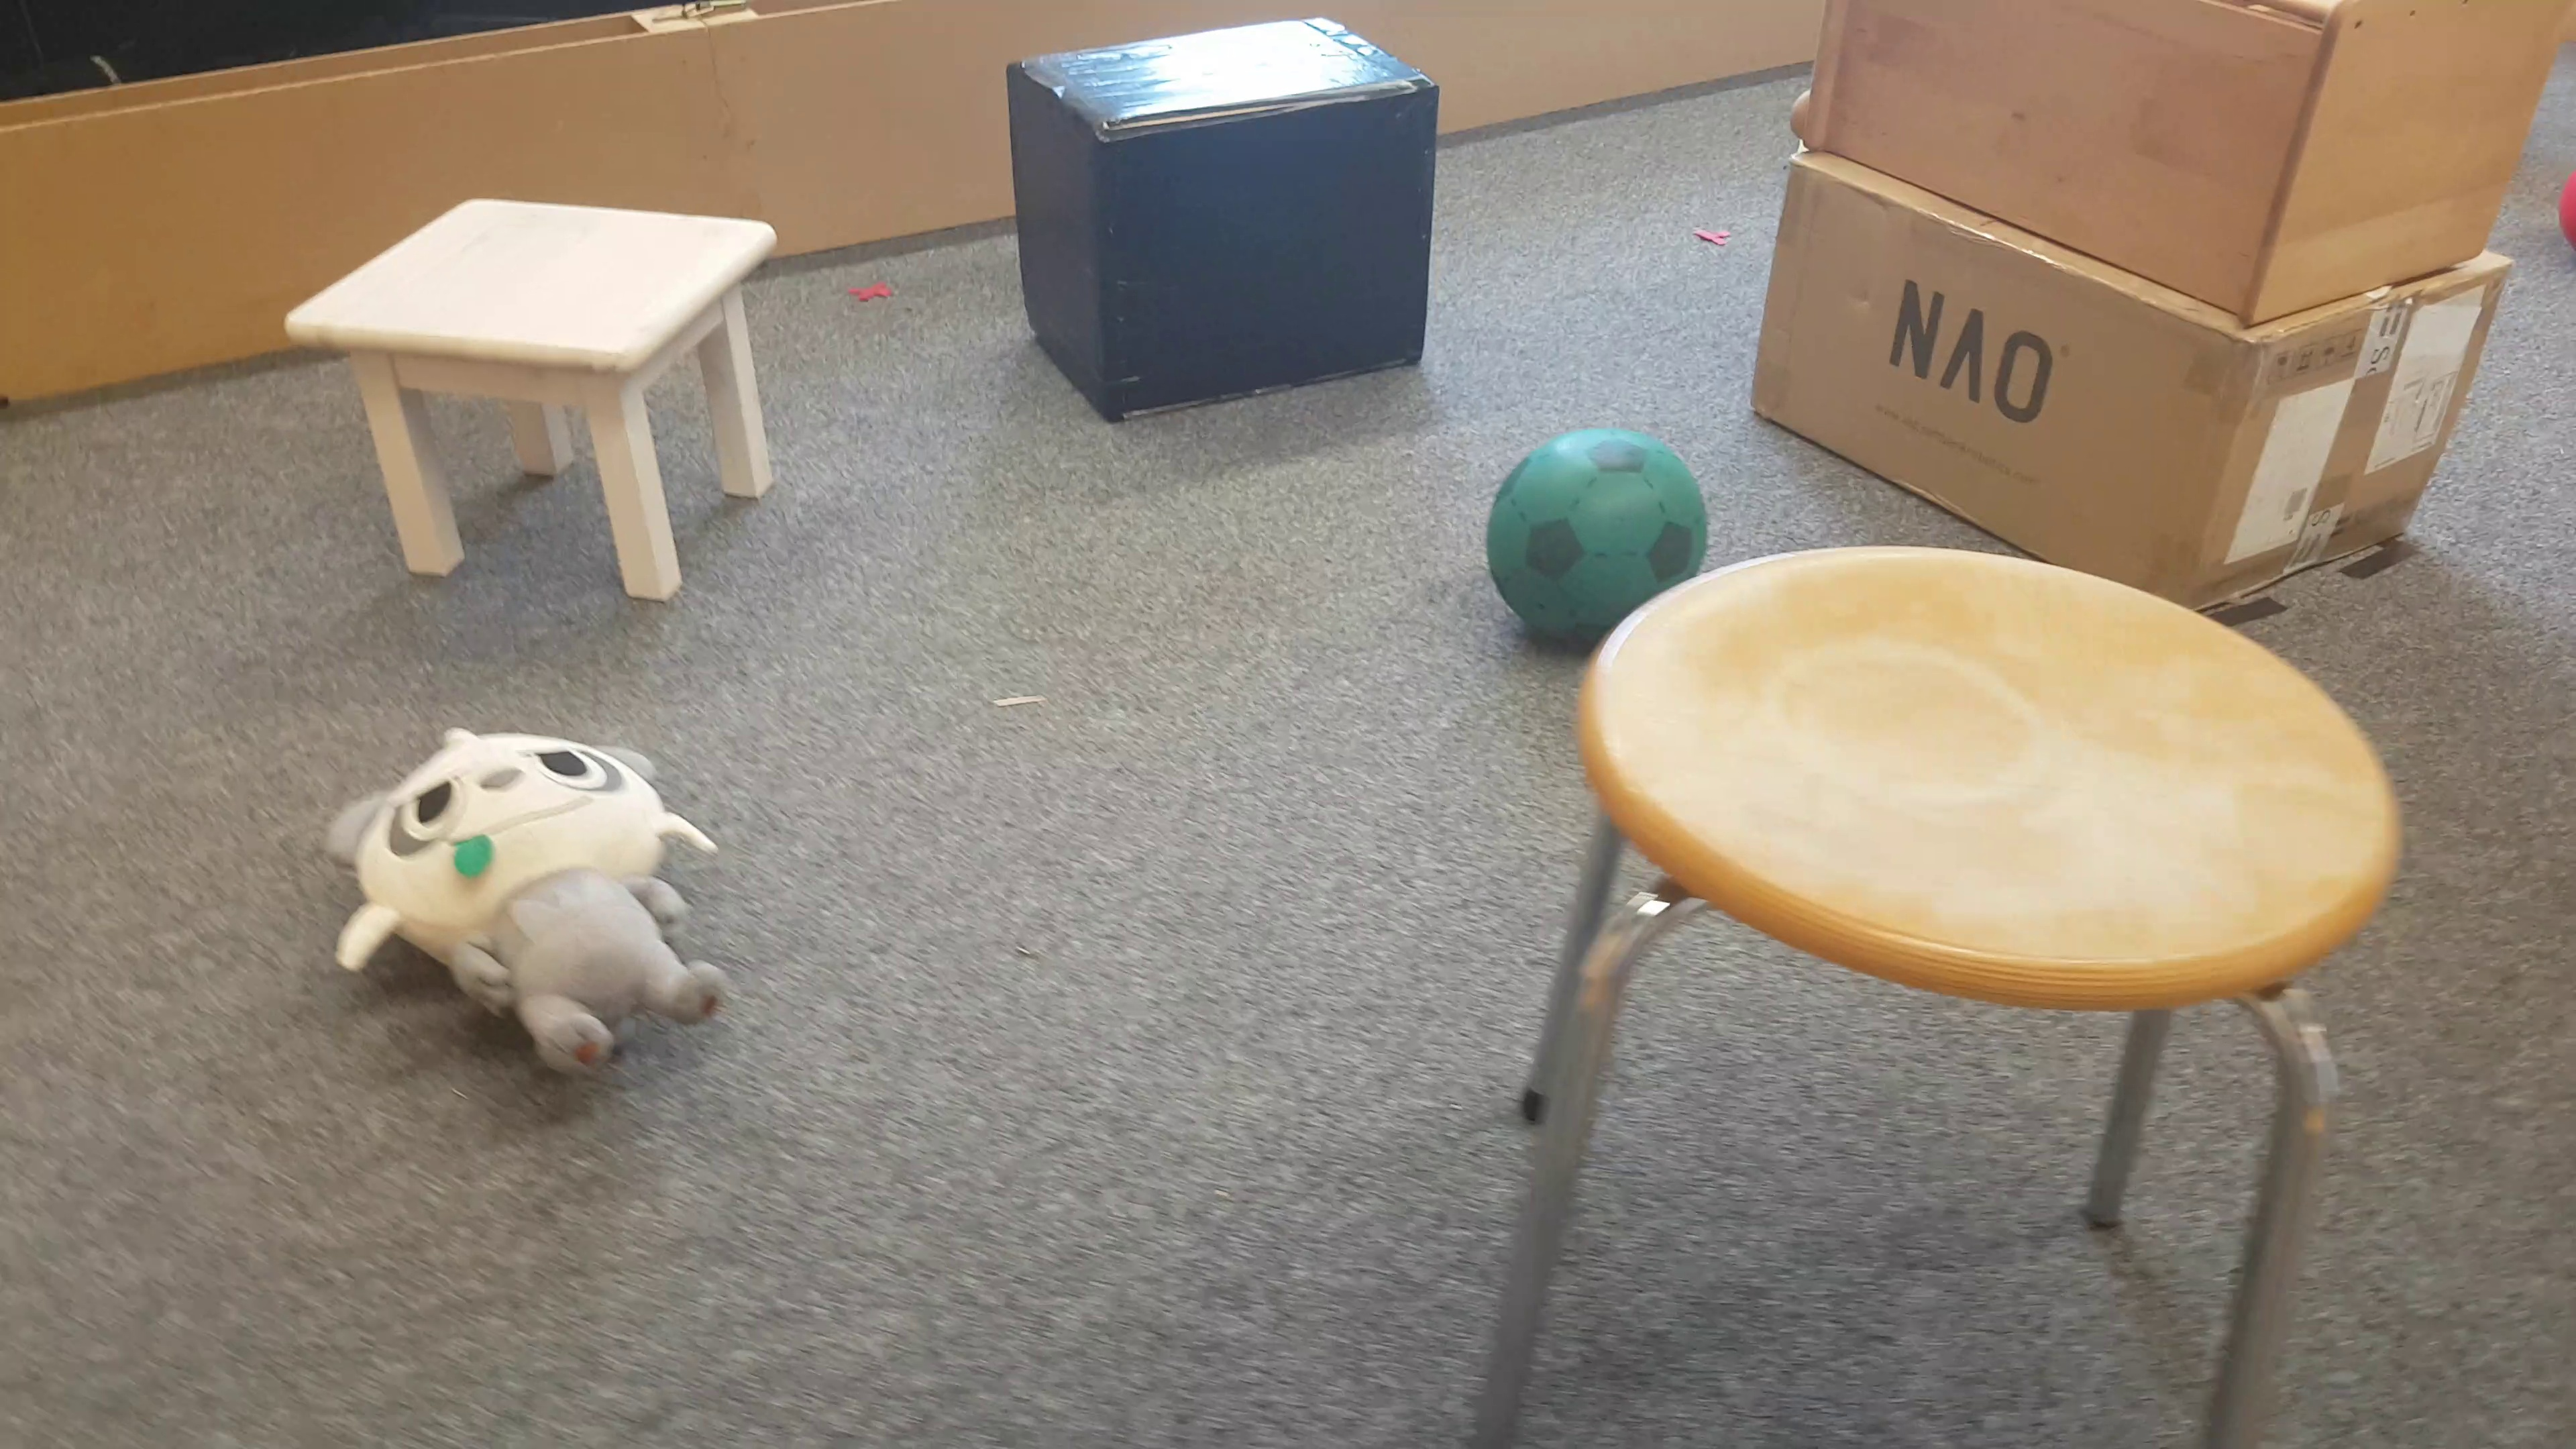grasp: (318, 731, 738, 1090)
kick: (1488, 430, 1679, 598)
